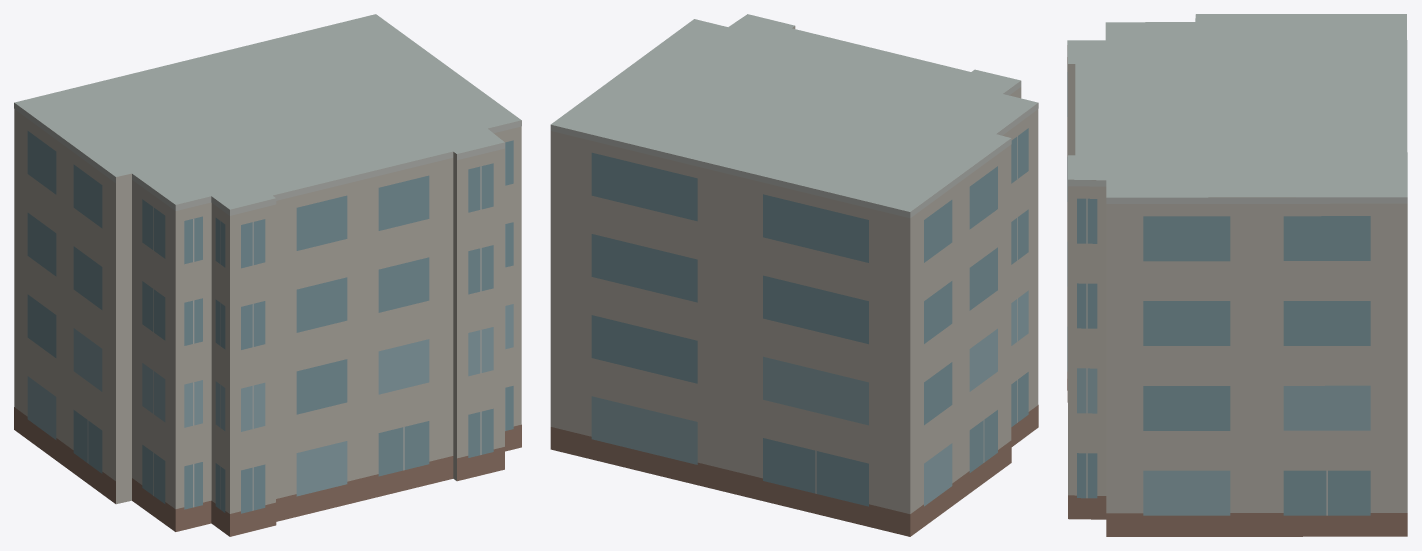
The model's file is survey-upis-32919403.glb.
3 views of the same model, side by side, from view 1: azimuth 30°, elevation 25°; view 2: azimuth 150°, elevation 25°; view 3: azimuth 270°, elevation 25° (orthographic). The views are drawn at different scales.
Parts seen in each view (by area): view 1: survey-upis-32919403.tmp; view 2: survey-upis-32919403.tmp; view 3: survey-upis-32919403.tmp.
Boxes of the visible parts, x1,y1,x2,y2 form: survey-upis-32919403.tmp: (14, 14, 521, 536); survey-upis-32919403.tmp: (550, 14, 1038, 536); survey-upis-32919403.tmp: (1067, 14, 1407, 536).
Bounding box in the file's own units: 14.86 × 12.8 × 11.64.
